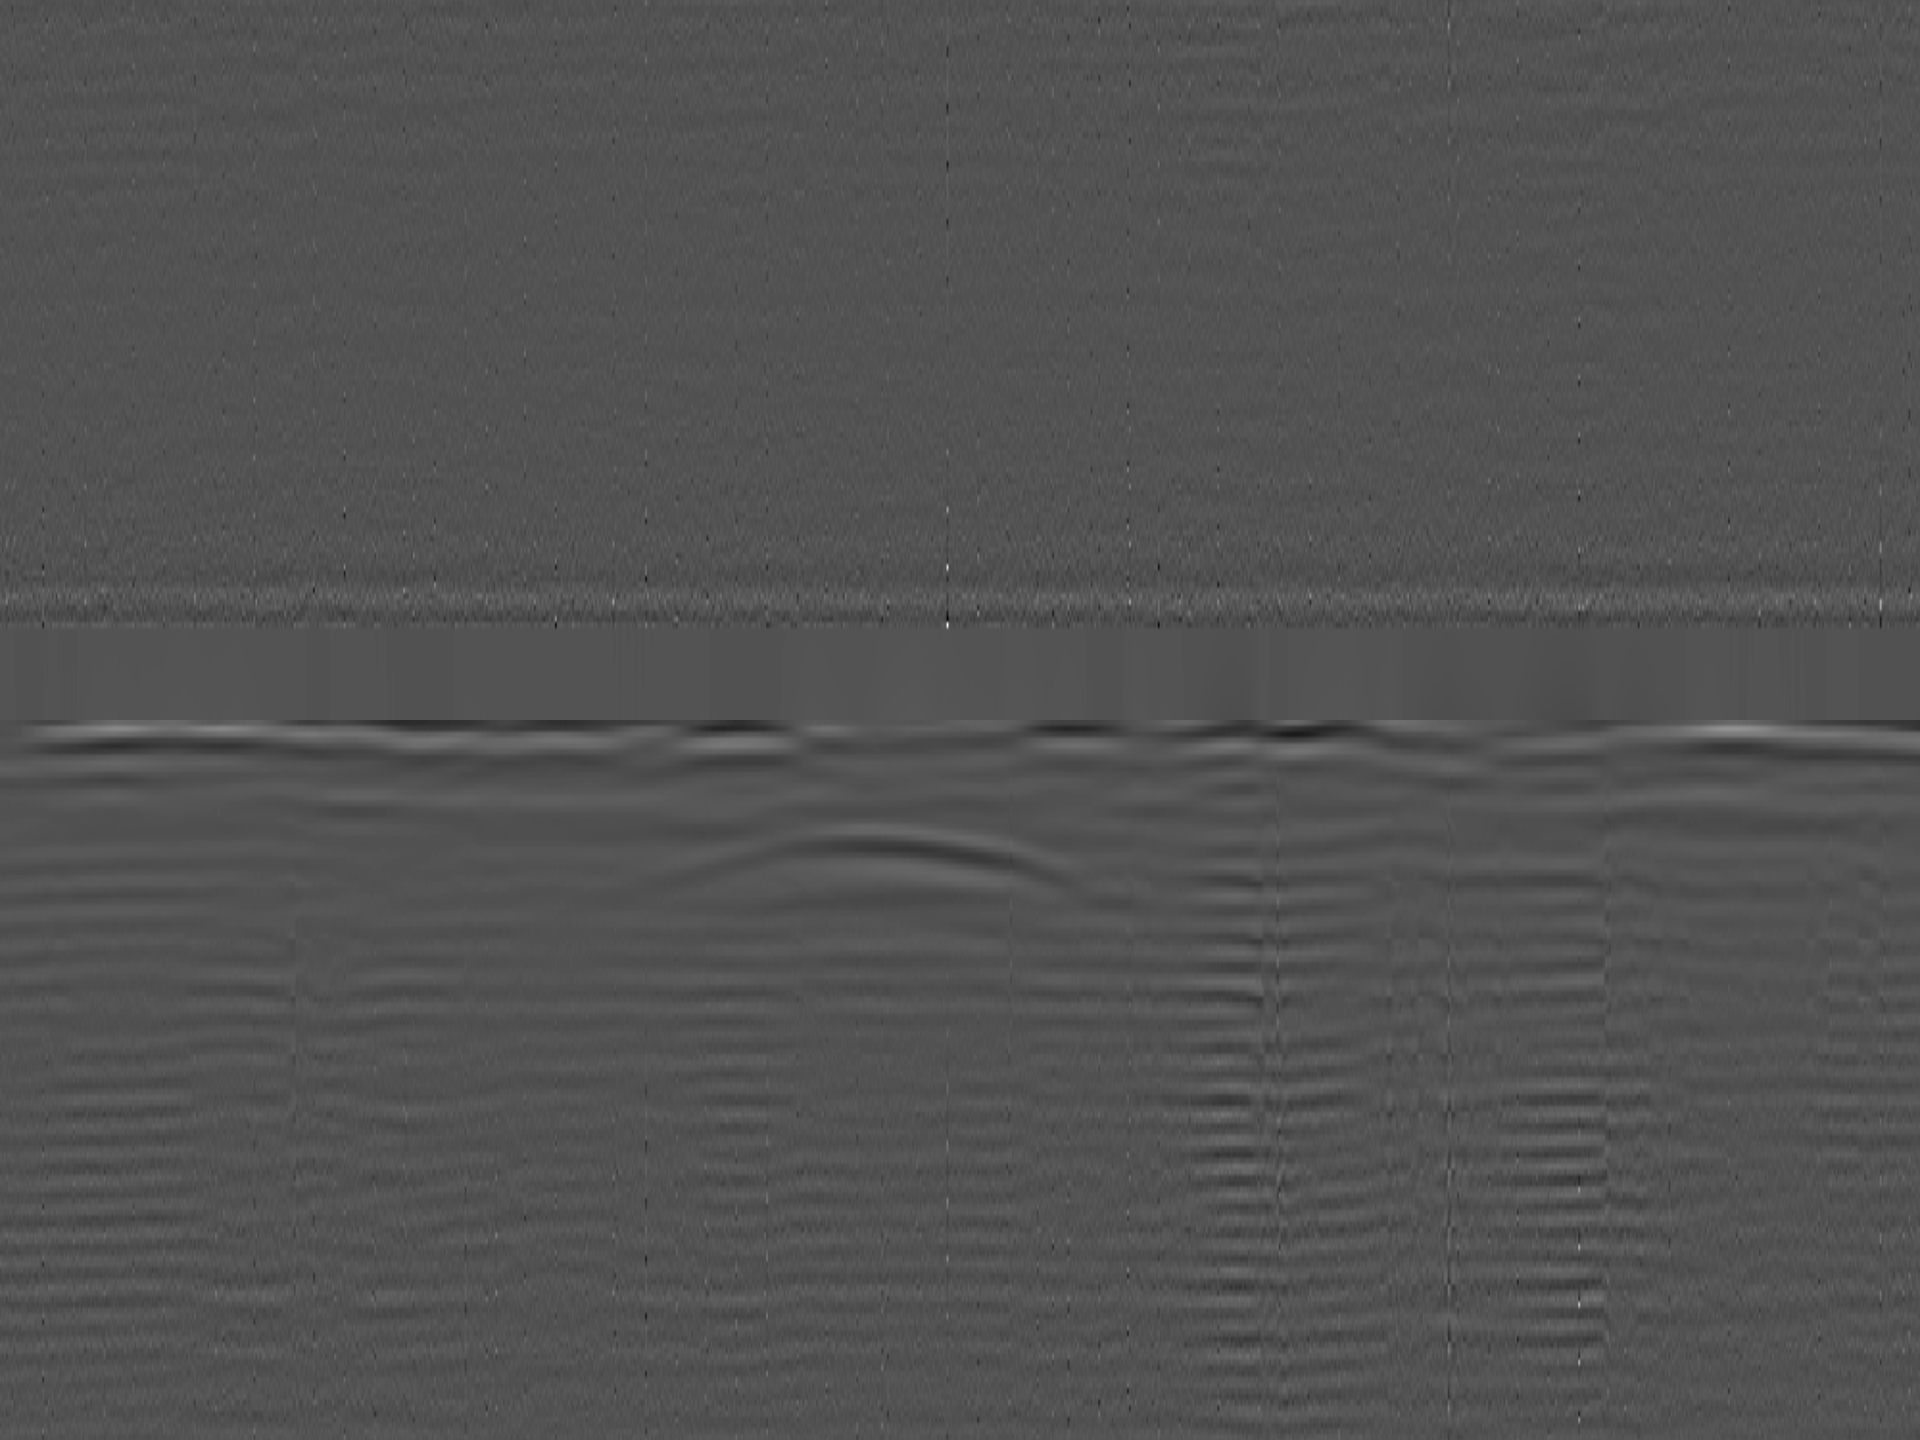Tunnel: (578, 821, 1143, 908)
